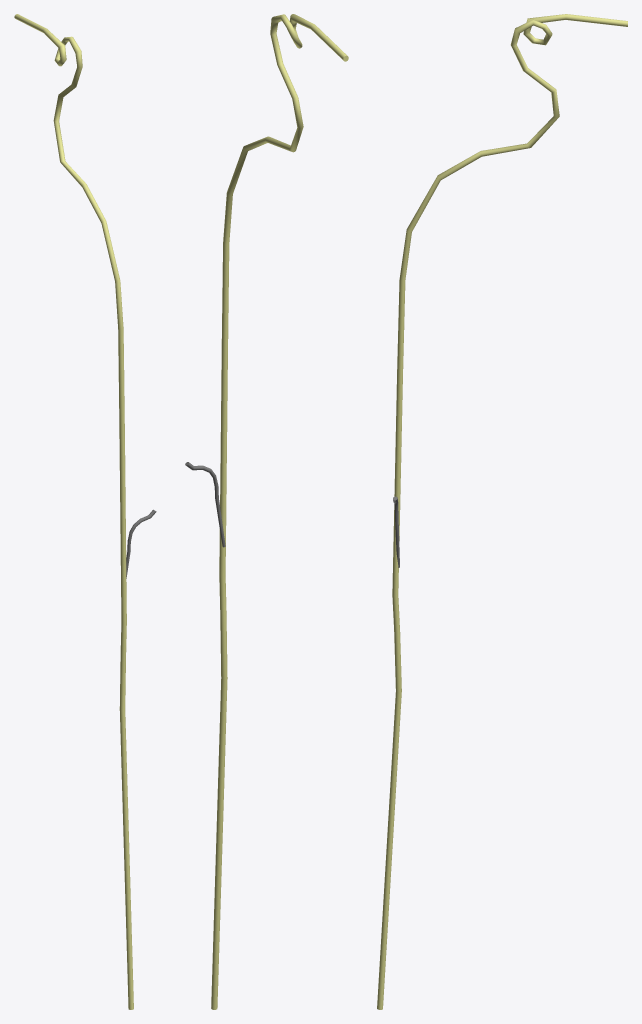
File: Chord01.fbx
The picture shows the model from 3 angles, left to right: view 1: azimuth 30°, elevation 25°; view 2: azimuth 210°, elevation 25°; view 3: azimuth 270°, elevation 25°; orthographic projection. The views are drawn at different scales.
Visible parts, largest first — view 1: Chord; view 2: Chord, Wire; view 3: Chord.
Boxes of the visible parts, x1=… form: Chord: x1=14, y1=14, x2=133, y2=1009; Chord: x1=211, y1=14, x2=348, y2=1009; Wire: x1=185, y1=462, x2=225, y2=547; Chord: x1=377, y1=14, x2=627, y2=1009.
Size of the model in its own units: 0.8032 by 20.16 by 4.61.
